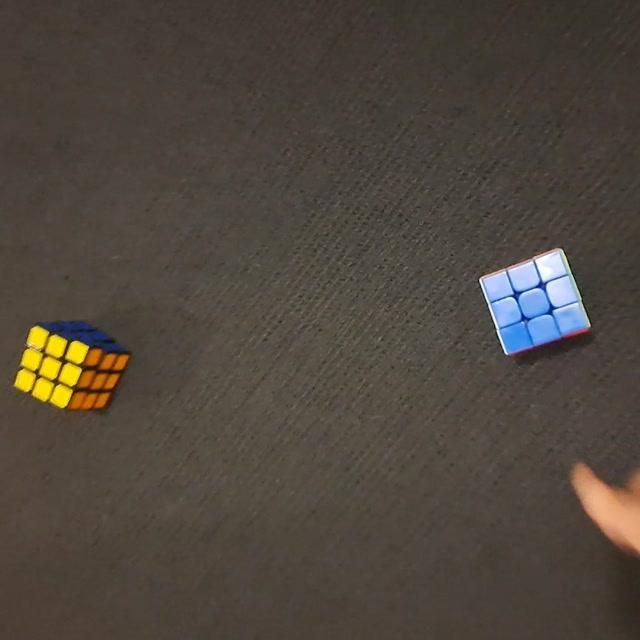rubix_cube: (475, 247, 593, 367), (13, 320, 132, 417)
